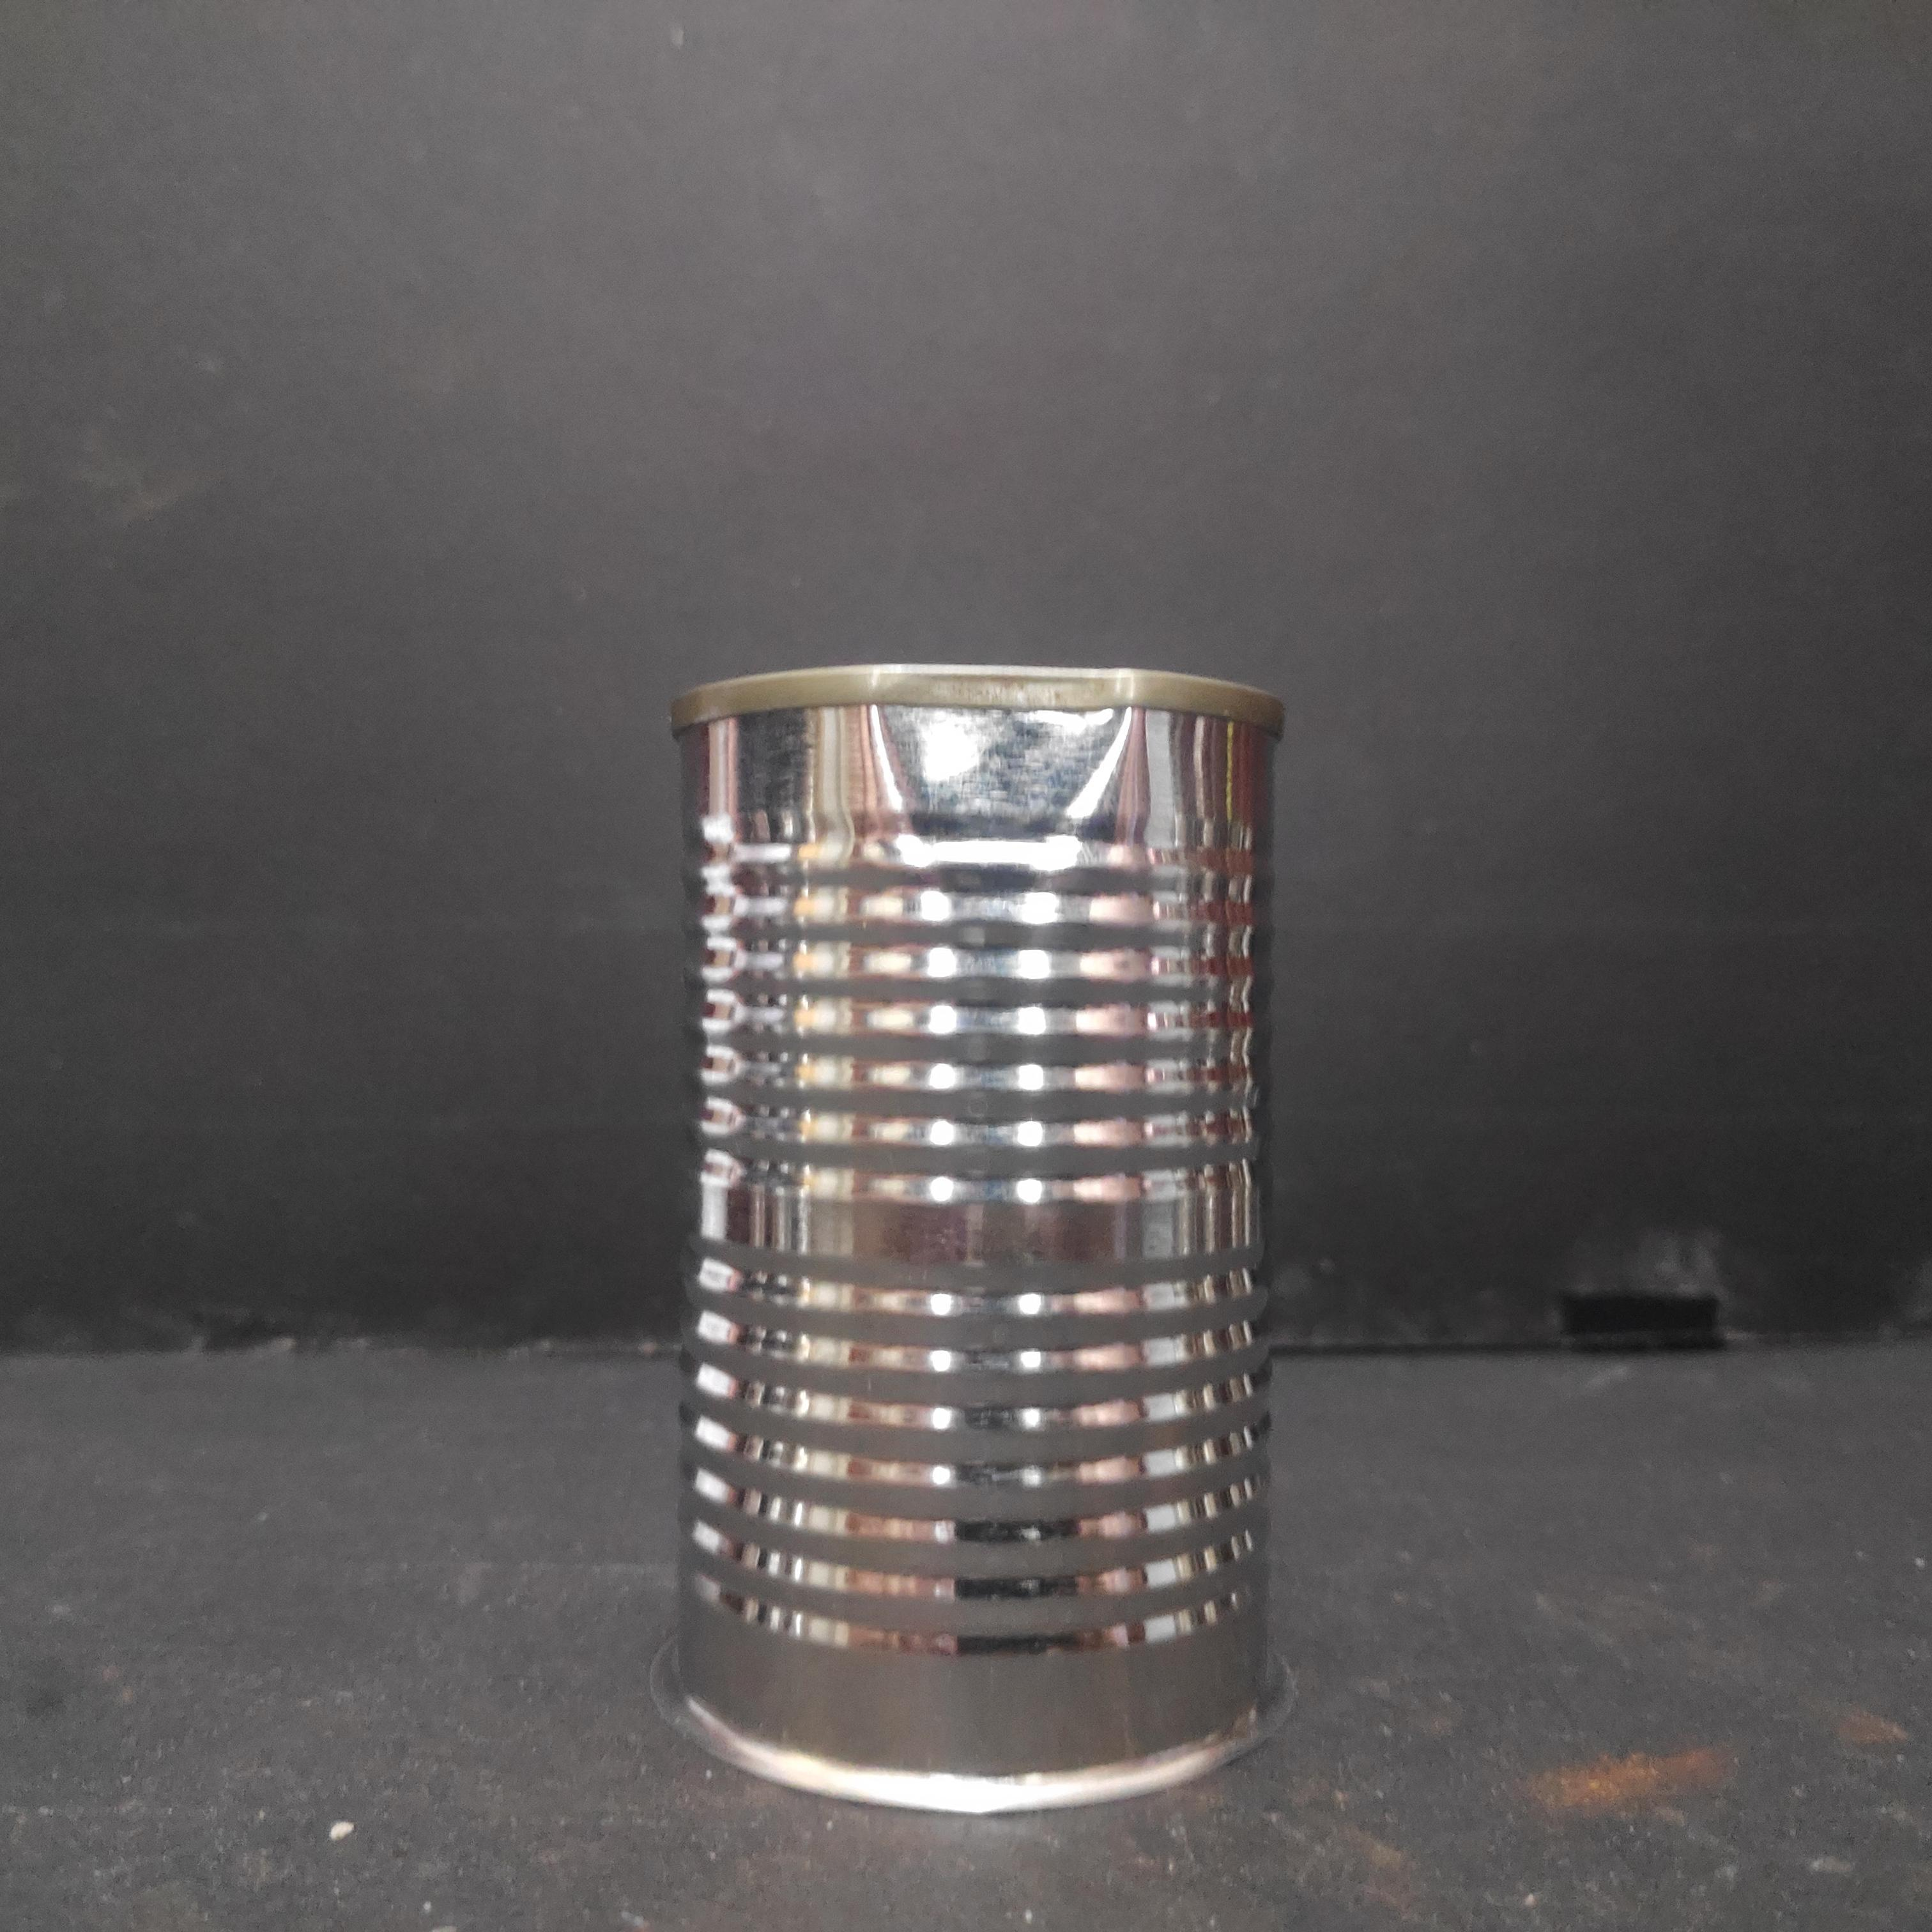Dented: (651, 623, 1313, 1824)
